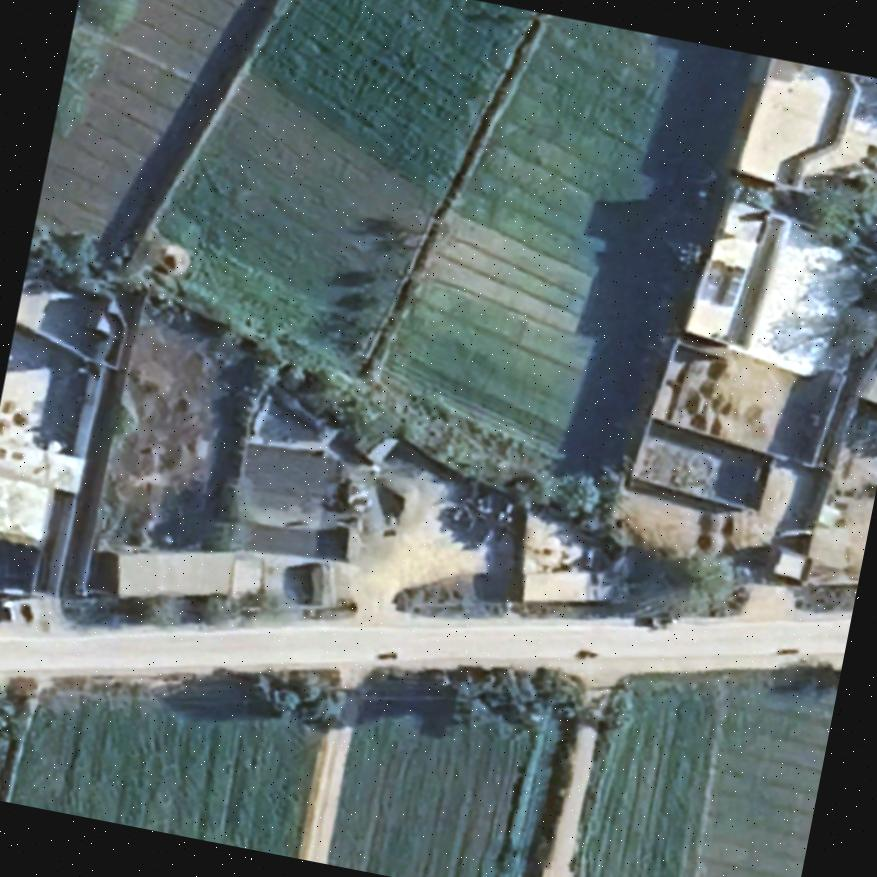Solarpanel: (696, 253, 750, 312)
